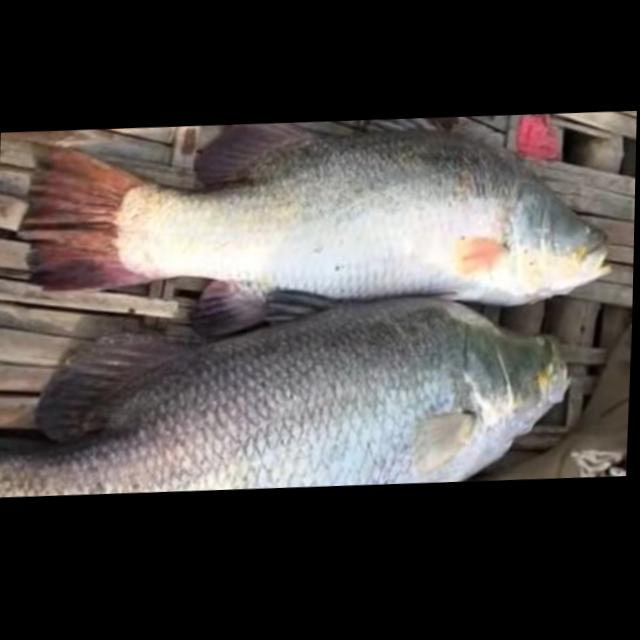Seabass: (19, 100, 617, 354), (0, 268, 578, 507)
